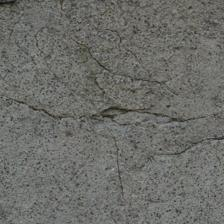Crack: (0, 67, 184, 135), (70, 79, 135, 144), (5, 6, 33, 68)
